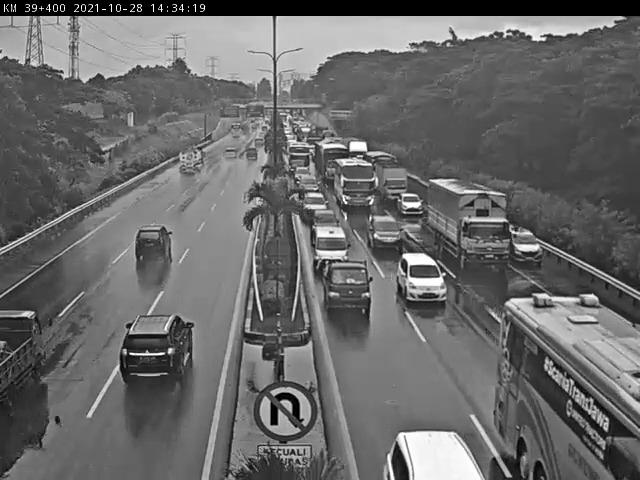big bus: (495, 290, 640, 480), (335, 157, 376, 208), (286, 142, 312, 172)
big truck: (425, 178, 514, 275), (319, 146, 350, 179), (176, 146, 207, 178)
car: (117, 311, 198, 388), (385, 431, 488, 480), (396, 251, 450, 308), (322, 260, 374, 318), (133, 223, 173, 263), (364, 213, 404, 252), (312, 224, 350, 263), (511, 226, 543, 265), (308, 209, 341, 234), (396, 191, 426, 217), (301, 191, 328, 218), (298, 174, 319, 193), (293, 164, 311, 184), (298, 172, 321, 187)
small truck: (0, 307, 46, 409), (376, 164, 409, 202)
